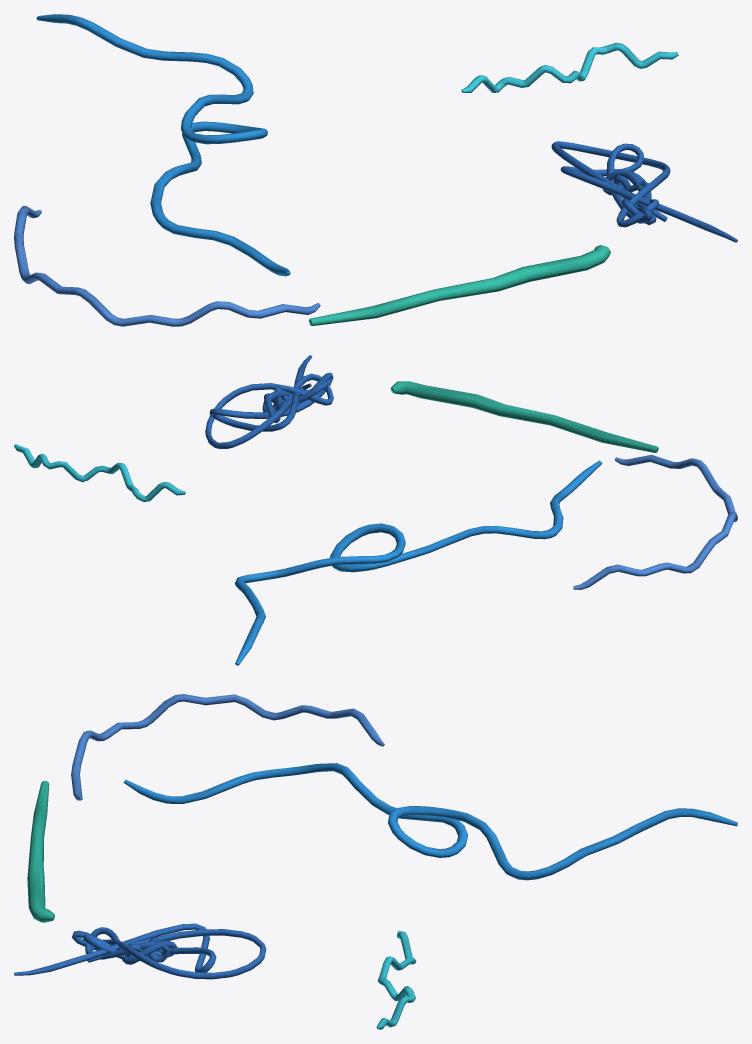
File: serat.glb
3 renders of one model, top to bottom at view 1: azimuth 30°, elevation 25°; view 2: azimuth 150°, elevation 25°; view 3: azimuth 270°, elevation 25°, orthographic. The views are drawn at different scales.
Visible parts, largest first — view 1: serat; view 2: serat; view 3: serat.
Part boxes in pixels (<box>): serat: <box>14,14,737,326</box>; serat: <box>14,355,737,665</box>; serat: <box>14,694,737,1029</box>.
Bounding box in the file's own units: 0.4007 × 0.0199 × 0.3778.
5 materials, 5 textured.
